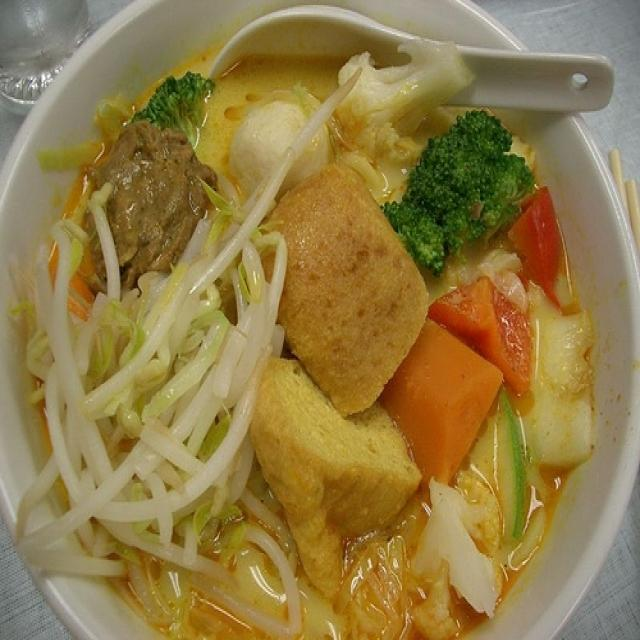面条主食: (9, 2, 631, 628)
